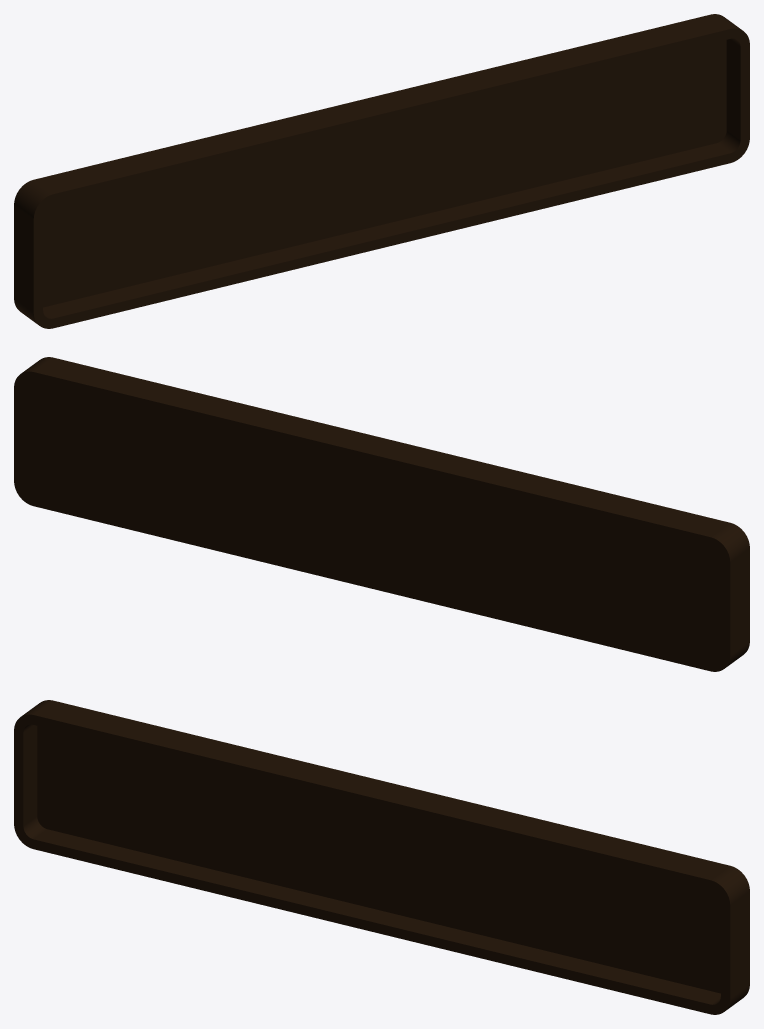
The model's file is Shuffleboard v3.fbx.
3 renders of one model, top to bottom at view 1: azimuth 30°, elevation 25°; view 2: azimuth 150°, elevation 25°; view 3: azimuth 330°, elevation 25°, orthographic.
Visible parts, largest first — view 1: Body1; view 2: Body1; view 3: Body1.
Boxes of the visible parts, box(x1,y1,x2,y2) form: Body1: box(14, 14, 749, 328); Body1: box(14, 357, 749, 671); Body1: box(14, 700, 749, 1014).
Bounding box in the file's own units: 5322 × 953 × 254.
